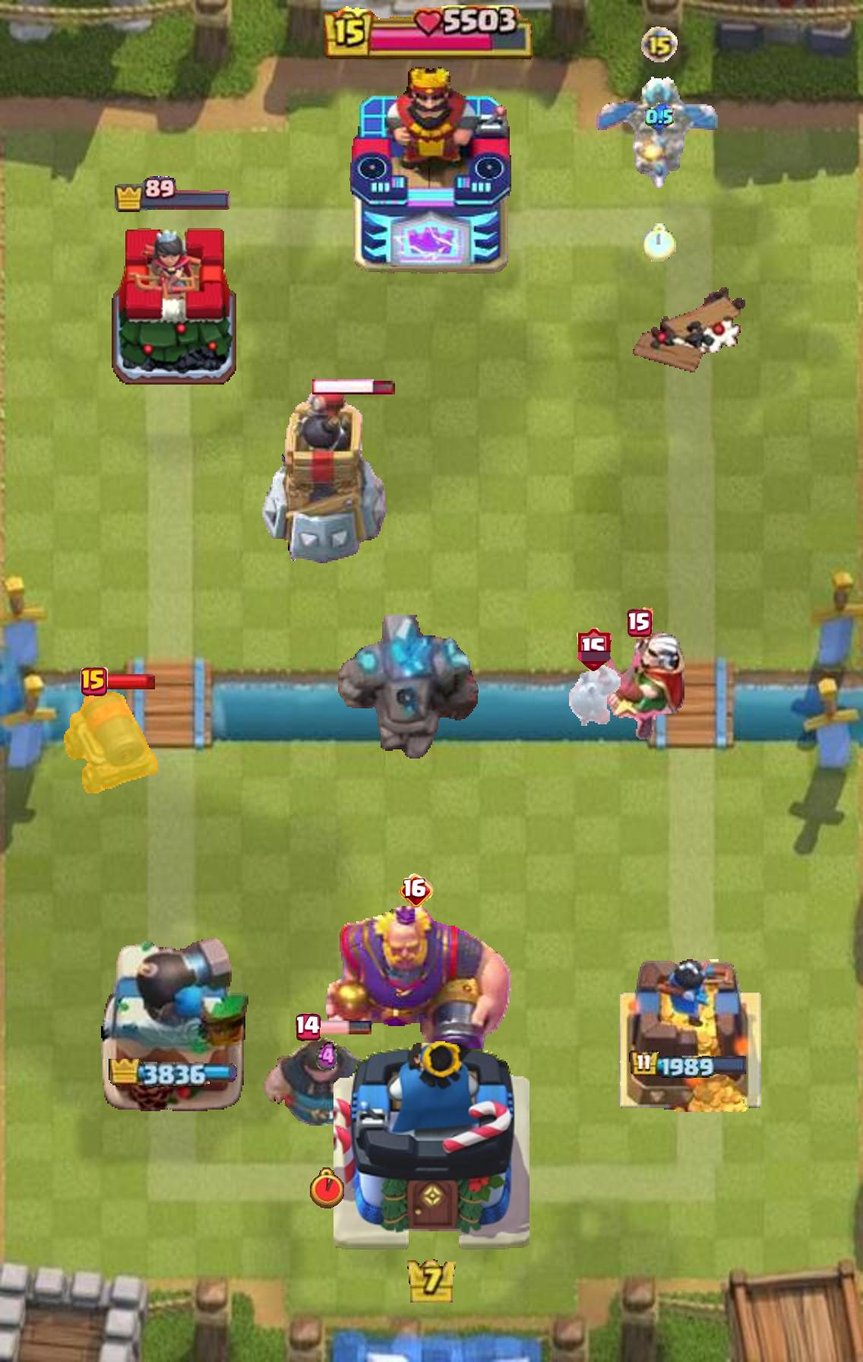bar: (289, 787, 346, 843), (686, 244, 727, 301), (258, 181, 285, 208)
